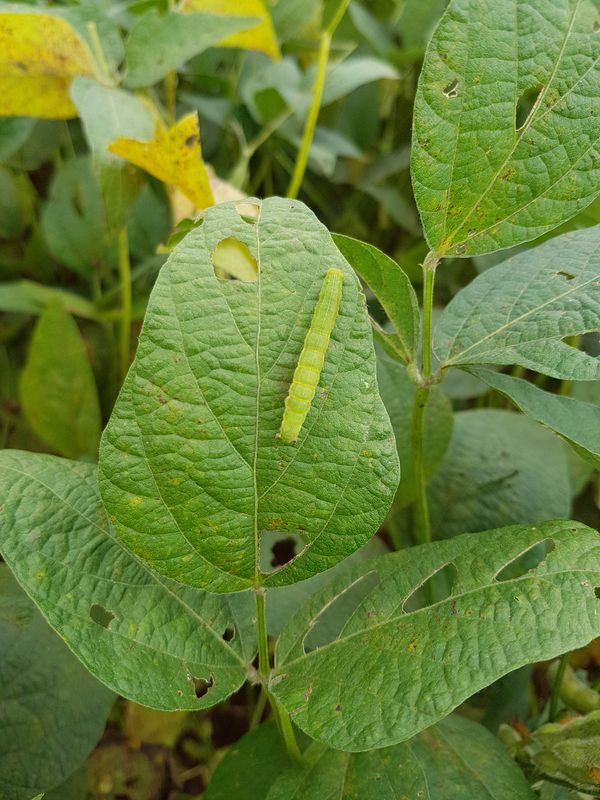Anticarsia_gemmatalis: (265, 261, 371, 456)
